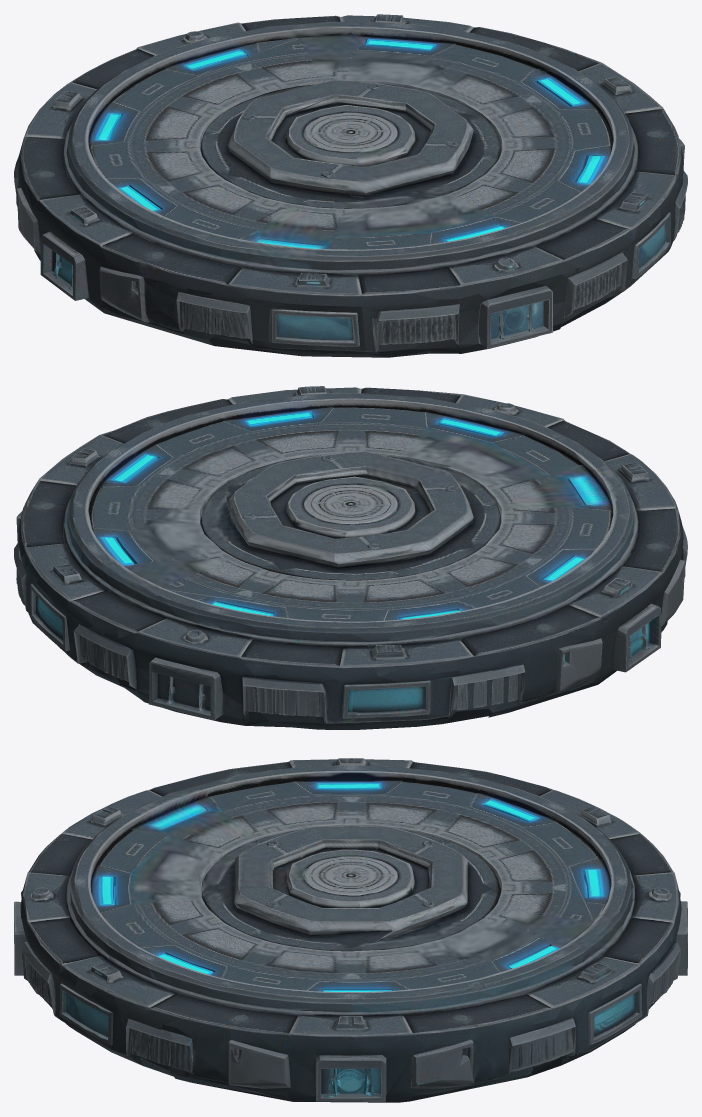
The model's file is b_pad.glb.
The picture shows the model from 3 angles, top to bottom: view 1: azimuth 30°, elevation 25°; view 2: azimuth 150°, elevation 25°; view 3: azimuth 270°, elevation 25°; orthographic projection.
Size of the model in its own units: 1.9 by 0.3002 by 1.9.
1 material, 1 textured.
